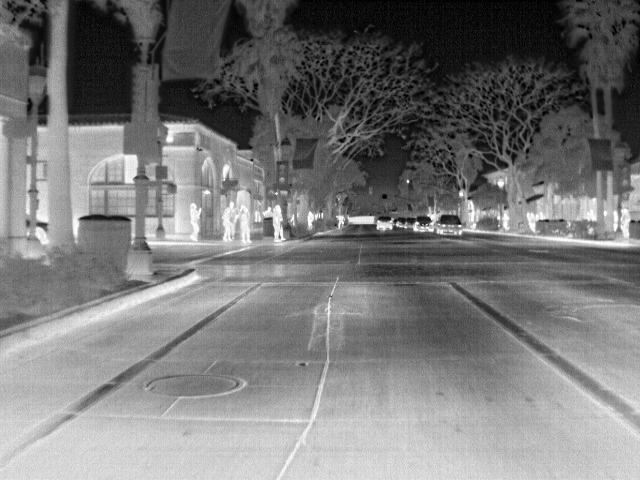car: (434, 214, 464, 238), (414, 214, 436, 234), (375, 214, 396, 232)
person: (186, 200, 205, 244), (237, 206, 255, 246), (272, 205, 285, 245), (223, 209, 237, 242), (619, 207, 632, 239)
